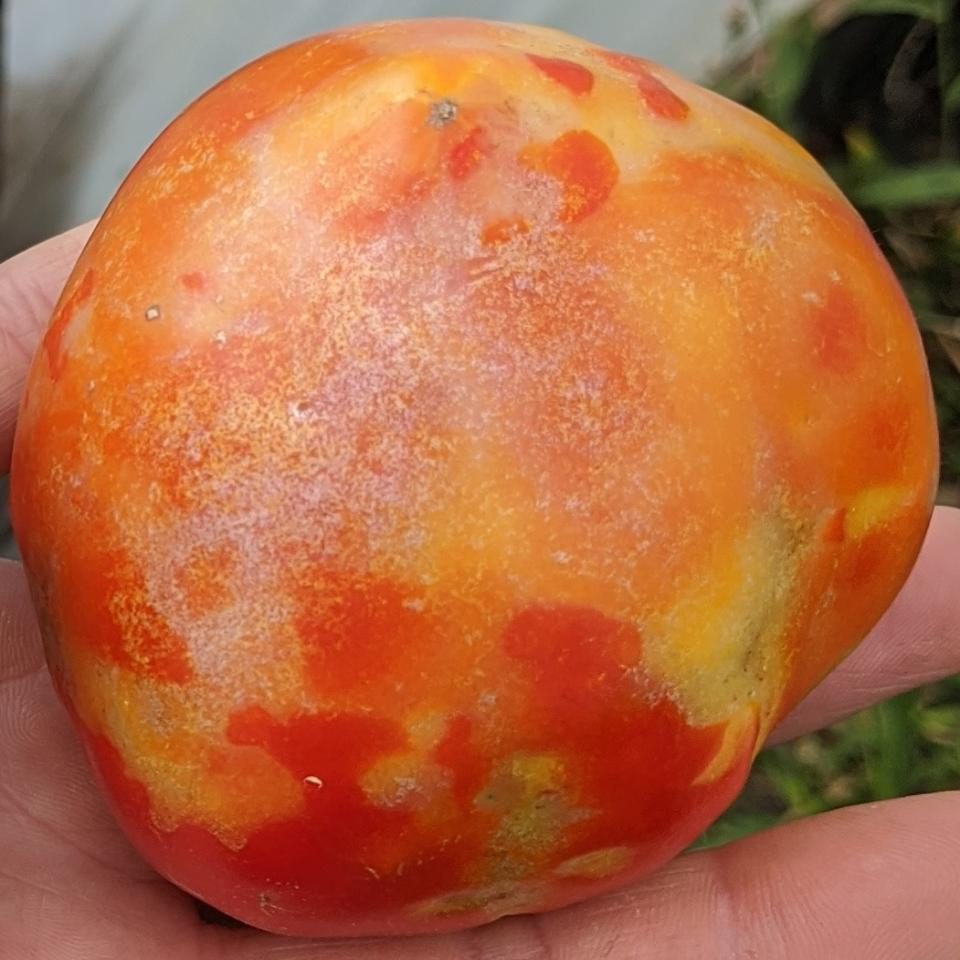Spotted wilt Virus: (12, 19, 939, 941)
